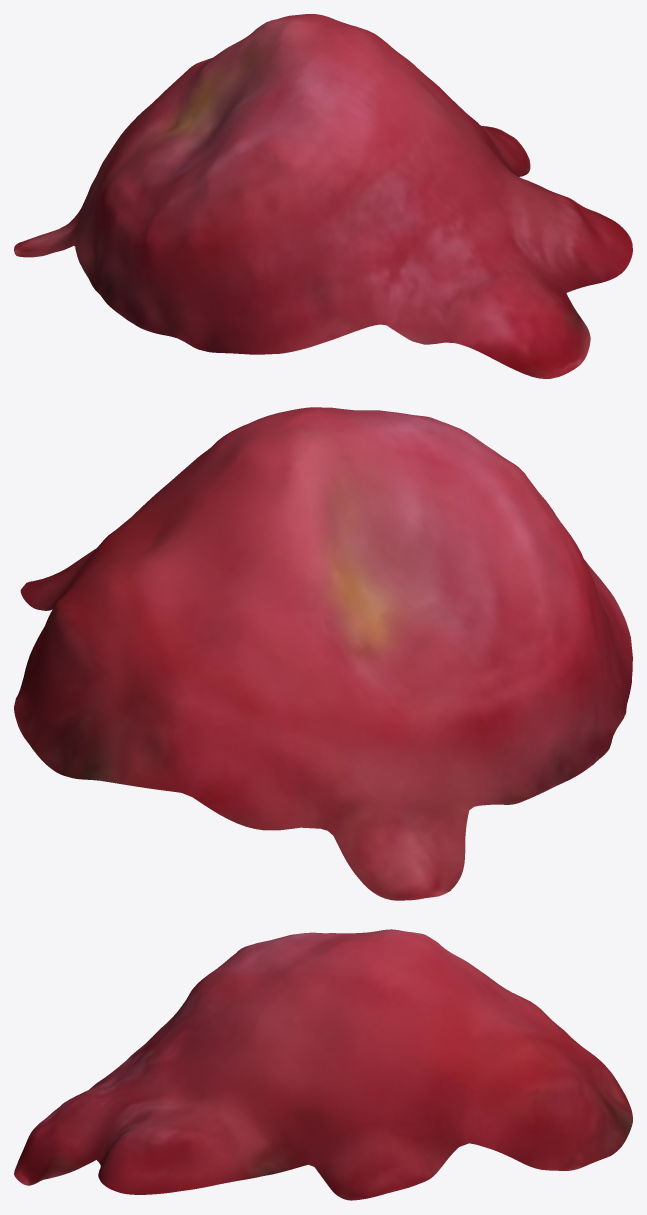
File: StomaMaceracijaStoma.fbx
3 renders of one model, top to bottom at view 1: azimuth 30°, elevation 25°; view 2: azimuth 150°, elevation 25°; view 3: azimuth 270°, elevation 25°, orthographic. The views are drawn at different scales.
Parts seen in each view (by area): view 1: StomaMaceracijaStoma; view 2: StomaMaceracijaStoma; view 3: StomaMaceracijaStoma.
Part boxes in pixels (x1,y1,x2,y2): StomaMaceracijaStoma: [14, 14, 632, 378]; StomaMaceracijaStoma: [14, 407, 632, 900]; StomaMaceracijaStoma: [14, 929, 632, 1200].
Bounding box in the file's own units: 38.31 × 21.81 × 51.67.
1 material, 1 textured.
